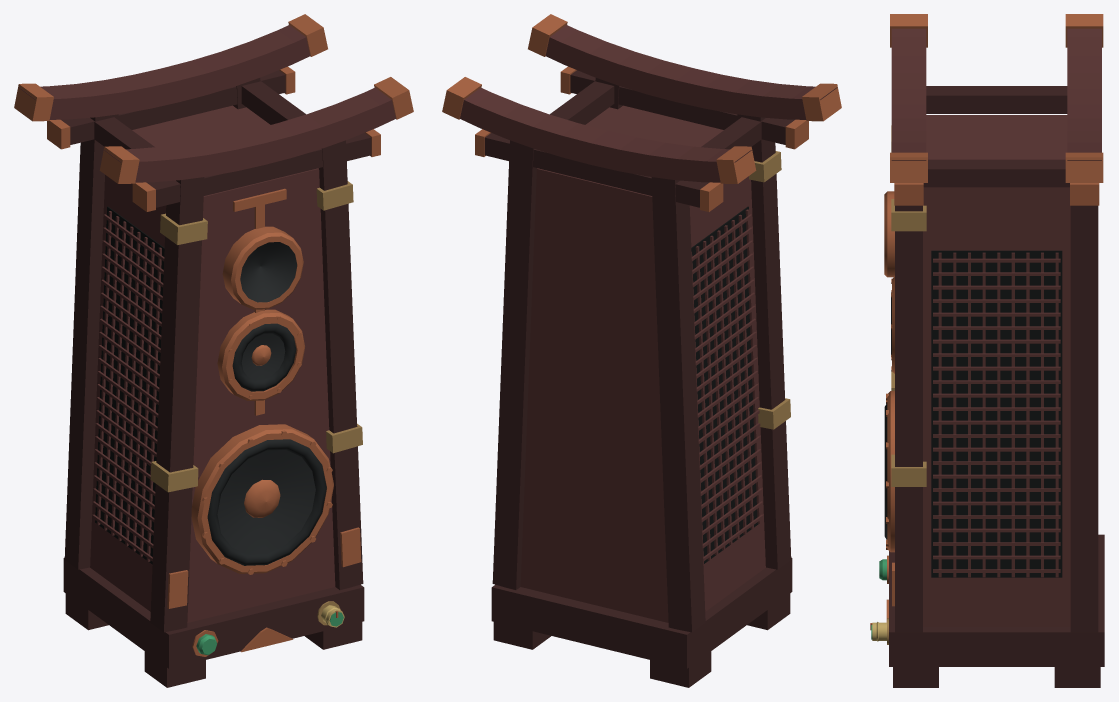
The model's file is EA-large.glb.
3 renders of one model, left to right at view 1: azimuth 30°, elevation 25°; view 2: azimuth 150°, elevation 25°; view 3: azimuth 270°, elevation 25°, orthographic. The views are drawn at different scales.
Visible parts, largest first — view 1: Tapered cabinet, Post front left, Side lattice left, Post back left, Plinth, Post front right, Torii top beam front, Torii top beam back, Side lattice backing left, Woofer — cone, Woofer — bezel ring, Woofer — rubber surround (+24 smaller); view 2: Tapered cabinet, Post back left, Side lattice left, Post back right, Plinth, Post front left, Torii top beam back, Torii top beam front, Side lattice backing left, Tie beam back, Tie beam front, Side tie beam right (+11 smaller); view 3: Tapered cabinet, Side lattice backing right, Side lattice right, Post back right, Post front right, Plinth, Torii top beam front, Torii top beam back, Side tie beam right, Side tie beam left, Torii top beam back copper cap right, Torii top beam front copper cap right (+11 smaller).
Boxes of the visible parts, x1,y1,x2,y2 form: Tapered cabinet: [90, 105, 335, 622]; Post front left: [150, 177, 204, 632]; Side lattice left: [92, 211, 164, 561]; Post back left: [64, 114, 118, 569]; Plinth: [63, 557, 364, 668]; Post front right: [318, 140, 363, 589]; Torii top beam front: [104, 87, 395, 182]; Torii top beam back: [18, 25, 310, 119]; Side lattice backing left: [95, 206, 164, 564]; Woofer — cone: [217, 450, 315, 554]; Woofer — bezel ring: [191, 424, 333, 573]; Woofer — rubber surround: [207, 439, 326, 565]; Tapered cabinet: [520, 105, 765, 622]; Post back left: [651, 177, 705, 632]; Side lattice left: [691, 209, 763, 564]; Post back right: [492, 140, 537, 589]; Plinth: [491, 557, 792, 668]; Post front left: [737, 114, 791, 569]; Torii top beam back: [460, 87, 751, 182]; Torii top beam front: [545, 25, 837, 119]; Side lattice backing left: [691, 206, 758, 563]; Tie beam back: [484, 133, 709, 207]; Tie beam front: [570, 70, 794, 144]; Side tie beam right: [550, 81, 614, 124]; Tapered cabinet: [923, 115, 1070, 627]; Side lattice backing right: [931, 250, 1062, 577]; Side lattice right: [933, 252, 1060, 577]; Post back right: [1070, 205, 1098, 632]; Post front right: [895, 205, 922, 632]; Plinth: [889, 534, 1104, 666]; Torii top beam front: [891, 28, 926, 160]; Torii top beam back: [1067, 28, 1101, 160]; Side tie beam right: [923, 159, 1069, 187]; Side tie beam left: [926, 86, 1067, 113]; Torii top beam back copper cap right: [1065, 152, 1103, 182]; Torii top beam front copper cap right: [890, 152, 927, 182].
Bounding box in the file's own units: 0.4546 × 0.7932 × 0.3041.
